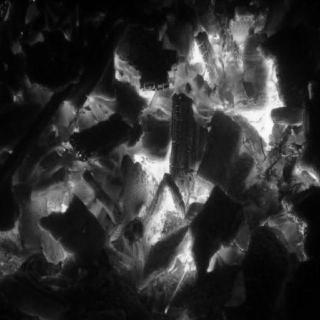Fire: (126, 14, 298, 254)
